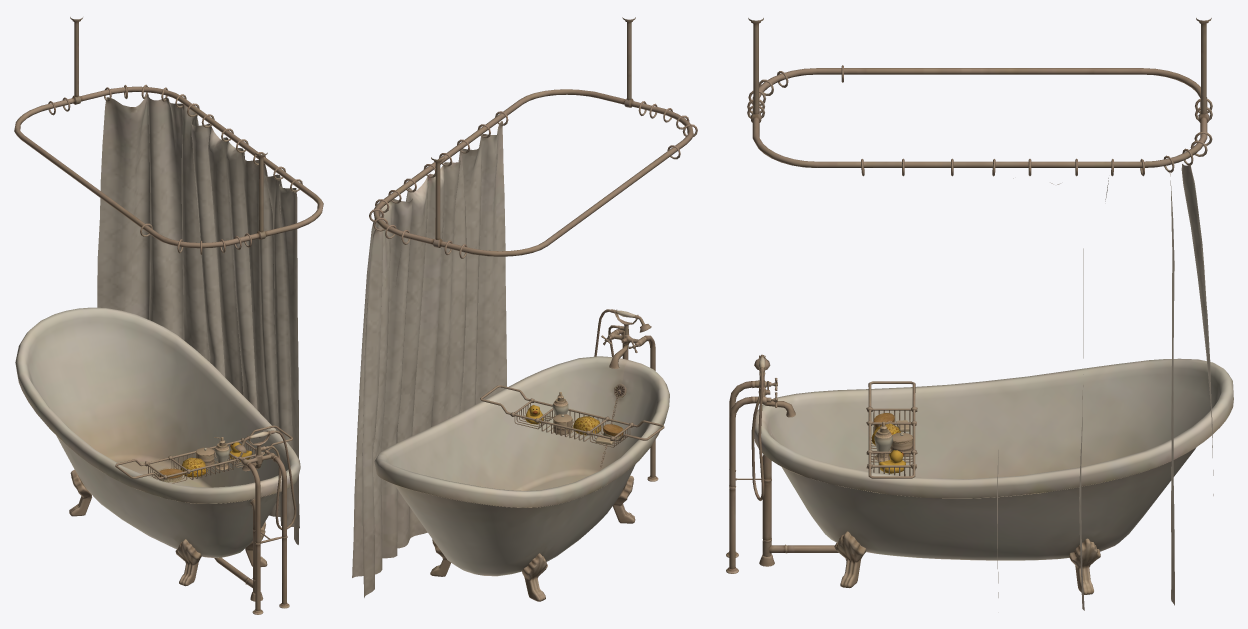
File: SM_bathtub_Set_73035e.glb
3 views of the same model, side by side, from view 1: azimuth 30°, elevation 25°; view 2: azimuth 150°, elevation 25°; view 3: azimuth 270°, elevation 25° (orthographic). The views are drawn at different scales.
Size of the model in its own units: 1.39 by 3.1 by 2.61.
7 materials, 7 textured.
